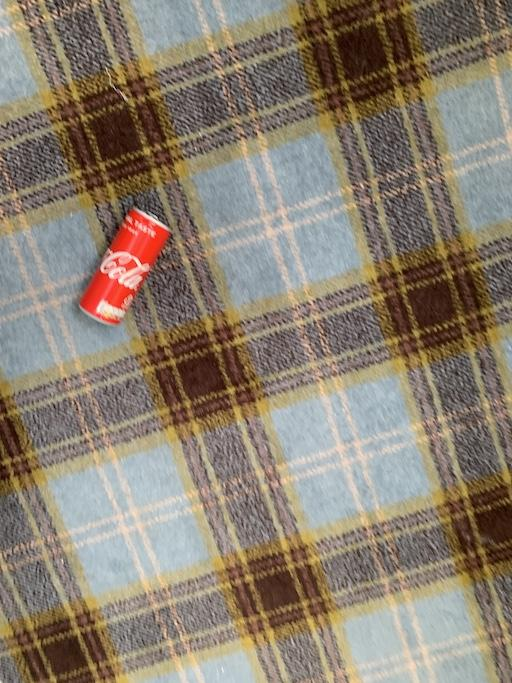Aluminum can: (52, 188, 206, 354)
